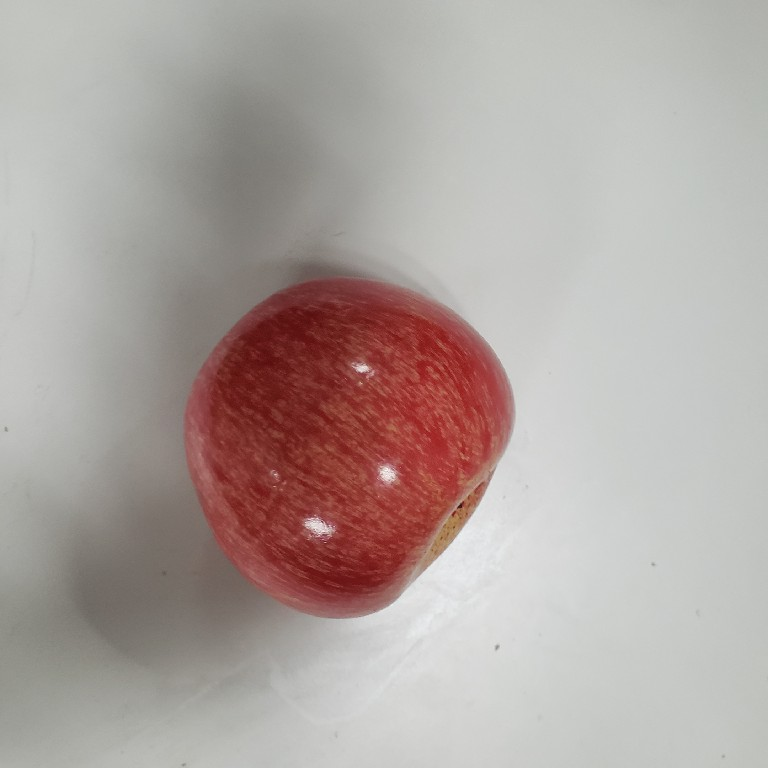fruit_apple: (177, 273, 521, 626)
